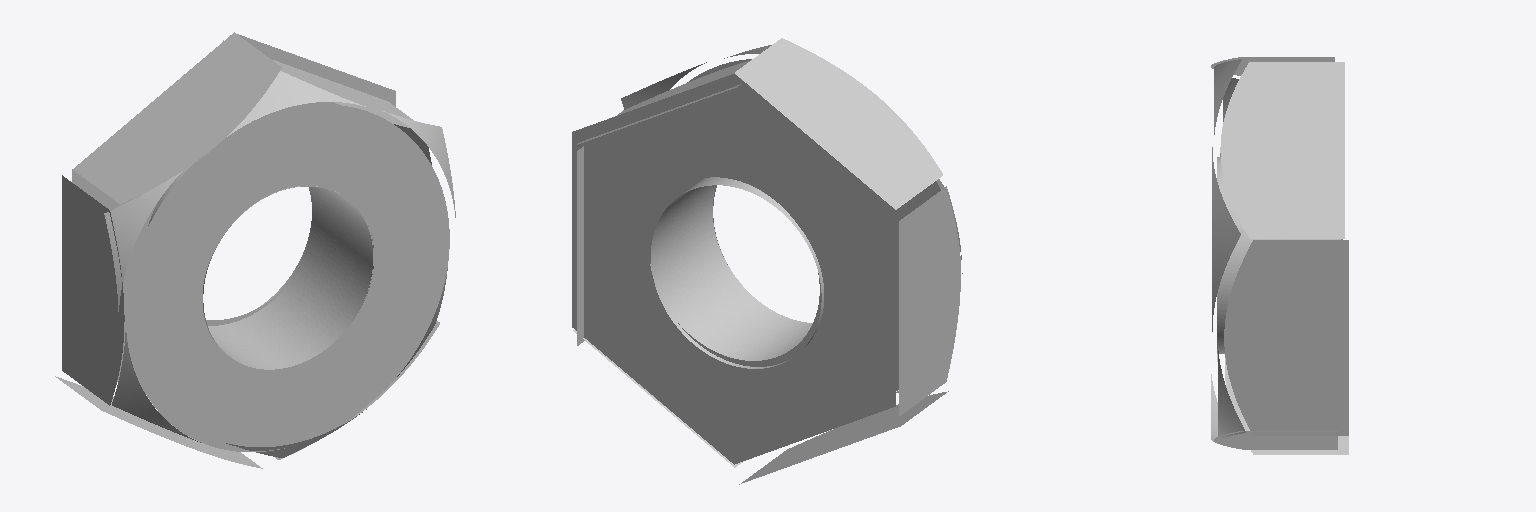
The model's file is 20.1pertb.obj.
3 views of the same model, side by side, from view 1: azimuth 30°, elevation 25°; view 2: azimuth 150°, elevation 25°; view 3: azimuth 270°, elevation 25° (orthographic).
Bounding box in the file's own units: 4.93 × 5.68 × 1.77.